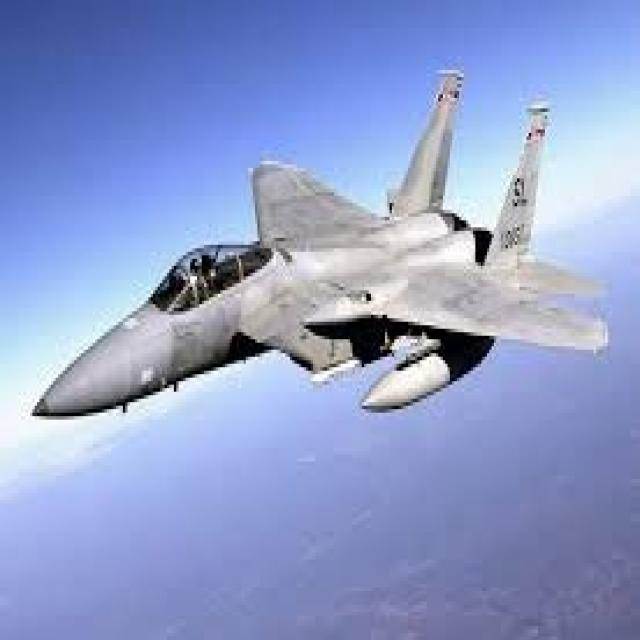F15: (7, 59, 620, 438)
